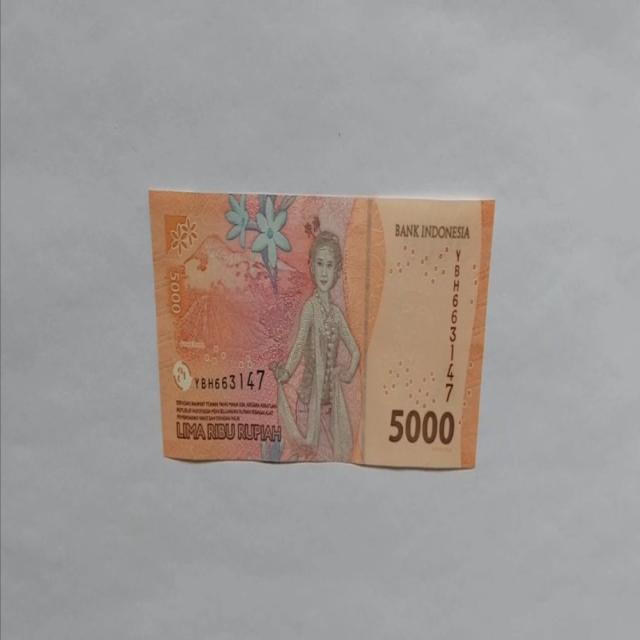lima ribu rupiah: (148, 188, 496, 470), (268, 230, 362, 462)
